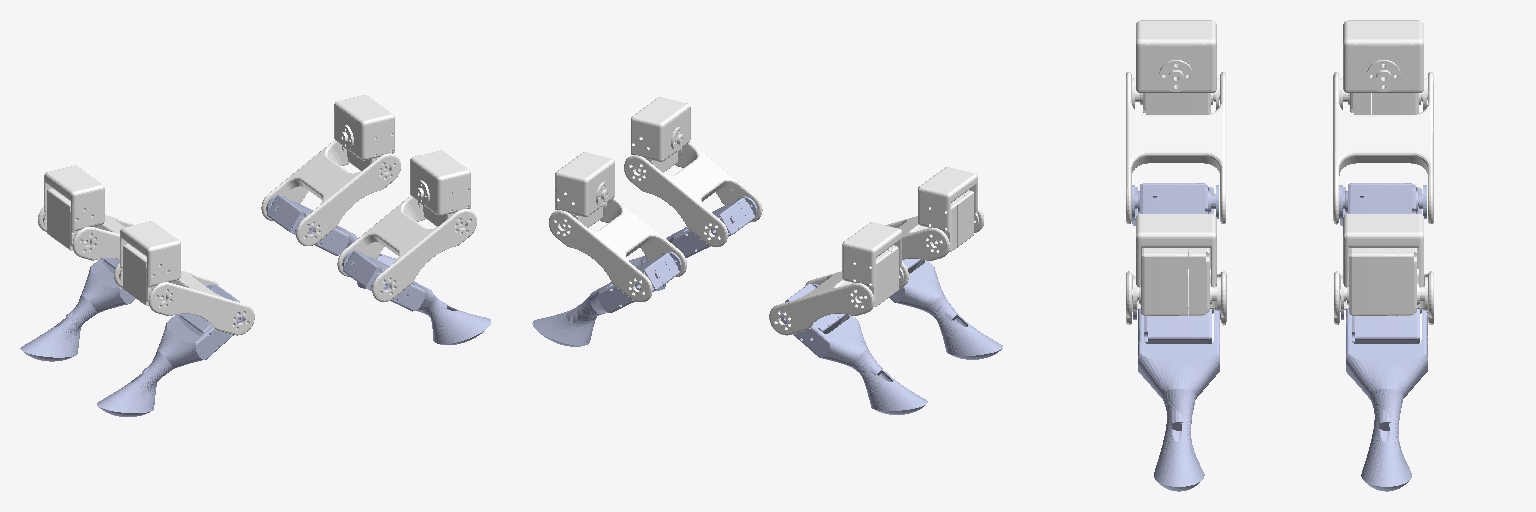
robot.urdf — amph:
<?xml version="1.0" encoding="utf-8"?>
<!-- This URDF was automatically created by SolidWorks to URDF Exporter! Originally created by Stephen Brawner (brawner@gmail.com) 
     Commit Version: 1.6.0-4-g7f85cfe  Build Version: 1.6.7995.38578
     For more information, please see http://wiki.ros.org/sw_urdf_exporter -->
<robot
  name="amph">
  <link
    name="base_link">
    <inertial>
      <origin
        xyz="0.038064 -0.003999 0.017013"
        rpy="0 0 0" />
      <mass
        value="0.3201" />
      <inertia
        ixx="0.000771"
        ixy="0"
        ixz="0"
        iyy="0.001846"
        iyz="0"
        izz="0.0023046" />
    </inertial>
    <visual>
      <origin
        xyz="0 0 0"
        rpy="0 0 0" />
      <geometry>
        <mesh
          filename="package://amph/meshes/base_link.STL" />
      </geometry>
      <material
        name="">
        <color
          rgba="1 1 1 0.25" />
      </material>
    </visual>
    <collision>
      <origin
        xyz="0 0 0"
        rpy="0 0 0" />
      <geometry>
        <mesh
          filename="package://amph/meshes/base_link.STL" />
      </geometry>
    </collision>
  </link>
  <link
    name="Front_Left_Side_link">
    <inertial>
      <origin
        xyz="0.0184232919697395 0.00102036842326376 -0.00186242376711977"
        rpy="0 0 0" />
      <mass
        value="0.0299000" />
      <inertia
        ixx="0.0000152"
        ixy="-0.0000001"
        ixz="0.0000008"
        iyy="0.0000115"
        iyz="0.0000003"
        izz="0.0000098" />
    </inertial>
    <visual>
      <origin
        xyz="0 0 0"
        rpy="0 0 0" />
      <geometry>
        <mesh
          filename="package://amph/meshes/Front_Left_Side_link.STL" />
      </geometry>
      <material
        name="">
        <color
          rgba="1 1 1 1" />
      </material>
    </visual>
    <collision>
      <origin
        xyz="0 0 0"
        rpy="0 0 0" />
      <geometry>
        <mesh
          filename="package://amph/meshes/Front_Left_Side_link.STL" />
      </geometry>
    </collision>
  </link>
  <joint
    name="Front_Left_Side_joint"
    type="revolute">
    <origin
      xyz="0.15477759334008 0.0570000000000263 0.00155612434018304"
      rpy="0 0 0" />
    <parent
      link="base_link" />
    <child
      link="Front_Left_Side_link" />
    <axis
      xyz="-1 0 0" />
    <limit
      lower="-0.52"
      upper="2.36"
      effort="3.5"
      velocity="12" />
  </joint>
  <link
    name="Front_Left_Thigh_link">
    <inertial>
      <origin
        xyz="-0.026 0.035884 -0.014811"
        rpy="0 0 0" />
      <mass
        value="0.0208000" />
      <inertia
        ixx="0.0000123"
        ixy="0"
        ixz="-0.0000032"
        iyy="0.0000096"
        iyz="0"
        izz="0.0000168" />
    </inertial>
    <visual>
      <origin
        xyz="0 0 0"
        rpy="0 0 0" />
      <geometry>
        <mesh
          filename="package://amph/meshes/Front_Left_Thigh_link.STL" />
      </geometry>
      <material
        name="">
        <color
          rgba="1 1 1 1" />
      </material>
    </visual>
    <collision>
      <origin
        xyz="0 0 0"
        rpy="0 0 0" />
      <geometry>
        <mesh
          filename="package://amph/meshes/Front_Left_Thigh_link.STL" />
      </geometry>
    </collision>
  </link>
  <joint
    name="Front_Left_Thigh_joint"
    type="revolute">
    <origin
      xyz="0.0220000079843493 0.0260999999999999 -0.0219999999987494"
      rpy="0 0 1.5707963267949" />
    <parent
      link="Front_Left_Side_link" />
    <child
      link="Front_Left_Thigh_link" />
    <axis
      xyz="-0.999999999999836 0 0" />
    <limit
      lower="-1.31"
      upper="1.31"
      effort="3.5"
      velocity="12" />
  </joint>
  <link
    name="Front_Left_Calf_link">
    <inertial>
      <origin
        xyz="-0.0255040747565971 0.00205150277579838 -0.0486018692135873"
        rpy="0 0 0" />
      <mass
        value="0.0451000" />
      <inertia
        ixx="0.0000409"
        ixy="-0.0000014"
        ixz="0.0000394"
        iyy="0.0000854"
        iyz="0.0000011"
        izz="0.0000572" />
    </inertial>
    <visual>
      <origin
        xyz="0 0 0"
        rpy="0 0 0" />
      <geometry>
        <mesh
          filename="package://amph/meshes/Front_Left_Calf_link.STL" />
      </geometry>
      <material
        name="">
        <color
          rgba="0.792156862745098 0.819607843137255 0.933333333333333 1" />
      </material>
    </visual>
    <collision>
      <origin
        xyz="0 0 0"
        rpy="0 0 0" />
      <geometry>
        <mesh
          filename="package://amph/meshes/Front_Left_Calf_link.STL" />
      </geometry>
    </collision>
  </link>
  <joint
    name="Front_Left_Calf_joint"
    type="revolute">
    <origin
      xyz="0 0.0702306452880413 -0.0383100047301657"
      rpy="-0.958131422681285 0 0" />
    <parent
      link="Front_Left_Thigh_link" />
    <child
      link="Front_Left_Calf_link" />
    <axis
      xyz="0.999999999999836 0 0" />
    <limit
      lower="-2.36"
      upper="0.79"
      effort="3.5"
      velocity="12" />
  </joint>
  <link
    name="Front_Left_Foot_link">
    <inertial>
      <origin
        xyz="-0.0085301 -0.00027102 0.010929"
        rpy="0 0 0" />
      <mass
        value="0.0183000" />
      <inertia
        ixx="0.0000025"
        ixy="0"
        ixz="0.0000014"
        iyy="0.0000053"
        iyz="0"
        izz="0.0000041" />
    </inertial>
    <visual>
      <origin
        xyz="0 0 0"
        rpy="0 0 0" />
      <geometry>
        <mesh
          filename="package://amph/meshes/Front_Left_Foot_link.STL" />
      </geometry>
      <material
        name="">
        <color
          rgba="0.79216 0.81961 0.93333 1" />
      </material>
    </visual>
    <collision>
      <origin
        xyz="0 0 0"
        rpy="0 0 0" />
      <geometry>
        <mesh
          filename="package://amph/meshes/Front_Left_Foot_link.STL" />
      </geometry>
    </collision>
  </link>
  <joint
    name="A_Front_Left_Foot"
    type="fixed">
    <origin
      xyz="-0.0244001461107092 0.0112213171848542 -0.115181778306931"
      rpy="0 0.958131422681285 -1.5707963267949" />
    <parent
      link="Front_Left_Calf_link" />
    <child
      link="Front_Left_Foot_link" />
    <axis
      xyz="0 0 0" />
  </joint>
  <link
    name="Front_Right_Side_link">
    <inertial>
      <origin
        xyz="0.0184232919684947 0.00102036842326379 -0.00186242376837317"
        rpy="0 0 0" />
      <mass
        value="0.0299000" />
      <inertia
        ixx="0.0000152"
        ixy="-0.0000001"
        ixz="0.0000008"
        iyy="0.0000115"
        iyz="0.0000003"
        izz="0.0000098" />
    </inertial>
    <visual>
      <origin
        xyz="0 0 0"
        rpy="0 0 0" />
      <geometry>
        <mesh
          filename="package://amph/meshes/Front_Right_Side_link.STL" />
      </geometry>
      <material
        name="">
        <color
          rgba="1 1 1 1" />
      </material>
    </visual>
    <collision>
      <origin
        xyz="0 0 0"
        rpy="0 0 0" />
      <geometry>
        <mesh
          filename="package://amph/meshes/Front_Right_Side_link.STL" />
      </geometry>
    </collision>
  </link>
  <joint
    name="Front_Right_Side_joint"
    type="revolute">
    <origin
      xyz="0.154777636868688 -0.0649999999999737 0.00155612434143641"
      rpy="0 0 0" />
    <parent
      link="base_link" />
    <child
      link="Front_Right_Side_link" />
    <axis
      xyz="-1 0 0" />
    <limit
      lower="-2.36"
      upper="0.52"
      effort="3.5"
      velocity="12" />
  </joint>
  <link
    name="Front_Right_Thigh_link">
    <inertial>
      <origin
        xyz="-0.026 0.035884 -0.014811"
        rpy="0 0 0" />
      <mass
        value="0.0208000" />
      <inertia
        ixx="0.0000123"
        ixy="0"
        ixz="-0.0000032"
        iyy="0.0000096"
        iyz="0"
        izz="0.0000168" />
    </inertial>
    <visual>
      <origin
        xyz="0 0 0"
        rpy="0 0 0" />
      <geometry>
        <mesh
          filename="package://amph/meshes/Front_Right_Thigh_link.STL" />
      </geometry>
      <material
        name="">
        <color
          rgba="1 1 1 1" />
      </material>
    </visual>
    <collision>
      <origin
        xyz="0 0 0"
        rpy="0 0 0" />
      <geometry>
        <mesh
          filename="package://amph/meshes/Front_Right_Thigh_link.STL" />
      </geometry>
    </collision>
  </link>
  <joint
    name="Front_Right_Thigh_joint"
    type="revolute">
    <origin
      xyz="0.0220000079831044 0.0260999999999999 -0.0220000000000028"
      rpy="0 0 1.5707963267949" />
    <parent
      link="Front_Right_Side_link" />
    <child
      link="Front_Right_Thigh_link" />
    <axis
      xyz="-0.999999999999836 0 0" />
    <limit
      lower="-1.31"
      upper="1.31"
      effort="3.5"
      velocity="12" />
  </joint>
  <link
    name="Front_Right_Calf_link">
    <inertial>
      <origin
        xyz="-0.025504 0.0020515 -0.048602"
        rpy="0 0 0" />
      <mass
        value="0.0451000" />
      <inertia
        ixx="0.0000409"
        ixy="-0.0000014"
        ixz="0.0000394"
        iyy="0.0000854"
        iyz="0.0000011"
        izz="0.0000572" />
    </inertial>
    <visual>
      <origin
        xyz="0 0 0"
        rpy="0 0 0" />
      <geometry>
        <mesh
          filename="package://amph/meshes/Front_Right_Calf_link.STL" />
      </geometry>
      <material
        name="">
        <color
          rgba="0.79216 0.81961 0.93333 1" />
      </material>
    </visual>
    <collision>
      <origin
        xyz="0 0 0"
        rpy="0 0 0" />
      <geometry>
        <mesh
          filename="package://amph/meshes/Front_Right_Calf_link.STL" />
      </geometry>
    </collision>
  </link>
  <joint
    name="Front_Right_Calf_joint"
    type="revolute">
    <origin
      xyz="0 0.0702306452593267 -0.0383099809708292"
      rpy="-0.958131422681286 0 0" />
    <parent
      link="Front_Right_Thigh_link" />
    <child
      link="Front_Right_Calf_link" />
    <axis
      xyz="0.999999999999836 0 0" />
    <limit
      lower="-2.36"
      upper="0.79"
      effort="3.5"
      velocity="12" />
  </joint>
  <link
    name="Front_Right_Foot_link">
    <inertial>
      <origin
        xyz="-0.0085301 -0.00027102 0.010929"
        rpy="0 0 0" />
      <mass
        value="0.0183000" />
      <inertia
        ixx="0.0000025"
        ixy="0"
        ixz="0.0000014"
        iyy="0.0000053"
        iyz="0"
        izz="0.0000041" />
    </inertial>
    <visual>
      <origin
        xyz="0 0 0"
        rpy="0 0 0" />
      <geometry>
        <mesh
          filename="package://amph/meshes/Front_Right_Foot_link.STL" />
      </geometry>
      <material
        name="">
        <color
          rgba="0.79216 0.81961 0.93333 1" />
      </material>
    </visual>
    <collision>
      <origin
        xyz="0 0 0"
        rpy="0 0 0" />
      <geometry>
        <mesh
          filename="package://amph/meshes/Front_Right_Foot_link.STL" />
      </geometry>
    </collision>
  </link>
  <joint
    name="A_Front_Right_Foot"
    type="fixed">
    <origin
      xyz="-0.0244001461107092 0.0112213171848544 -0.115181778306931"
      rpy="0 0.958131422681286 -1.5707963267949" />
    <parent
      link="Front_Right_Calf_link" />
    <child
      link="Front_Right_Foot_link" />
    <axis
      xyz="0 0 0" />
  </joint>
  <link
    name="Hind_Left_Side_link">
    <inertial>
      <origin
        xyz="0.0184232919638169 0.00102036842319508 -0.00186242363500561"
        rpy="0 0 0" />
      <mass
        value="0.0299000" />
      <inertia
        ixx="0.0000152"
        ixy="-0.0000001"
        ixz="-0.0000008"
        iyy="0.0000115"
        iyz="-0.0000003"
        izz="0.0000098" />
    </inertial>
    <visual>
      <origin
        xyz="0 0 0"
        rpy="0 0 0" />
      <geometry>
        <mesh
          filename="package://amph/meshes/Hind_Left_Side_link.STL" />
      </geometry>
      <material
        name="">
        <color
          rgba="1 1 1 1" />
      </material>
    </visual>
    <collision>
      <origin
        xyz="0 0 0"
        rpy="0 0 0" />
      <geometry>
        <mesh
          filename="package://amph/meshes/Hind_Left_Side_link.STL" />
      </geometry>
    </collision>
  </link>
  <joint
    name="Hind_Left_Side_joint"
    type="revolute">
    <origin
      xyz="-0.078642510574228 0.0570000000000255 0.00155612434145495"
      rpy="0 0 3.14159265358979" />
    <parent
      link="base_link" />
    <child
      link="Hind_Left_Side_link" />
    <axis
      xyz="-1 0 0" />
    <limit
      lower="-0.52"
      upper="2.36"
      effort="3.5"
      velocity="12" />
  </joint>
  <link
    name="Hind_Left_Thigh_link">
    <inertial>
      <origin
        xyz="-0.026 0.036316 -0.013716"
        rpy="0 0 0" />
      <mass
        value="0.0208000" />
      <inertia
        ixx="0.0000121"
        ixy="0"
        ixz="0.0000031"
        iyy=" 0.0000096"
        iyz="0"
        izz="0.0000170" />
    </inertial>
    <visual>
      <origin
        xyz="0 0 0"
        rpy="0 0 0" />
      <geometry>
        <mesh
          filename="package://amph/meshes/Hind_Left_Thigh_link.STL" />
      </geometry>
      <material
        name="">
        <color
          rgba="1 1 1 1" />
      </material>
    </visual>
    <collision>
      <origin
        xyz="0 0 0"
        rpy="0 0 0" />
      <geometry>
        <mesh
          filename="package://amph/meshes/Hind_Left_Thigh_link.STL" />
      </geometry>
    </collision>
  </link>
  <joint
    name="Hind_Left_Thigh_joint"
    type="revolute">
    <origin
      xyz="0.0220000153753706 0.0261000096574333 -0.0220000073922274"
      rpy="0 0 1.5707963267949" />
    <parent
      link="Hind_Left_Side_link" />
    <child
      link="Hind_Left_Thigh_link" />
    <axis
      xyz="-1 0 0" />
    <limit
      lower="-1.31"
      upper="1.31"
      effort="3.5"
      velocity="12" />
  </joint>
  <link
    name="Hind_Left_Calf_link">
    <inertial>
      <origin
        xyz="-0.025504 0.0020515 -0.048602"
        rpy="0 0 0" />
      <mass
        value=" 0.0451000" />
      <inertia
        ixx="0.0000362"
        ixy="-0.0000015"
        ixz="-0.0000381"
        iyy="0.0000854"
        iyz="-0.0000010"
        izz="0.0000620" />
    </inertial>
    <visual>
      <origin
        xyz="0 0 0"
        rpy="0 0 0" />
      <geometry>
        <mesh
          filename="package://amph/meshes/Hind_Left_Calf_link.STL" />
      </geometry>
      <material
        name="">
        <color
          rgba="0.79216 0.81961 0.93333 1" />
      </material>
    </visual>
    <collision>
      <origin
        xyz="0 0 0"
        rpy="0 0 0" />
      <geometry>
        <mesh
          filename="package://amph/meshes/Hind_Left_Calf_link.STL" />
      </geometry>
    </collision>
  </link>
  <joint
    name="Hind_Left_Calf_joint"
    type="revolute">
    <origin
      xyz="0 0.0713593621686832 -0.0361640975470369"
      rpy="-1.01982031722611 0 0" />
    <parent
      link="Hind_Left_Thigh_link" />
    <child
      link="Hind_Left_Calf_link" />
    <axis
      xyz="1 0 0" />
    <limit
      lower="-2.36"
      upper="0.79"
      effort="3.5"
      velocity="12" />
  </joint>
  <link
    name="Hind_Left_Foot_link">
    <inertial>
      <origin
        xyz="-0.0091875 -0.00027094 0.010382"
        rpy="0 0 0" />
      <mass
        value="0.0183000" />
      <inertia
        ixx="0.0000023"
        ixy="0"
        ixz="-0.0000013"
        iyy="0.0000053"
        iyz="0"
        izz=" 0.0000043" />
    </inertial>
    <visual>
      <origin
        xyz="0 0 0"
        rpy="0 0 0" />
      <geometry>
        <mesh
          filename="package://amph/meshes/Hind_Left_Foot_link.STL" />
      </geometry>
      <material
        name="">
        <color
          rgba="0.79216 0.81961 0.93333 1" />
      </material>
    </visual>
    <collision>
      <origin
        xyz="0 0 0"
        rpy="0 0 0" />
      <geometry>
        <mesh
          filename="package://amph/meshes/Hind_Left_Foot_link.STL" />
      </geometry>
    </collision>
  </link>
  <joint
    name="A_Hind_Left_Foot"
    type="fixed">
    <origin
      xyz="-0.0244001461112225 0.0112213171765679 -0.115181778272229"
      rpy="0 1.01982031722611 -1.5707963267949" />
    <parent
      link="Hind_Left_Calf_link" />
    <child
      link="Hind_Left_Foot_link" />
    <axis
      xyz="0 0 0" />
  </joint>
  <link
    name="Hind_Right_Side_link">
    <inertial>
      <origin
        xyz="0.0184232920396631 0.00102036842967271 -0.00186242371085152"
        rpy="0 0 0" />
      <mass
        value="0.0299000" />
      <inertia
        ixx="0.0000152"
        ixy="-0.0000001"
        ixz="-0.0000008"
        iyy="0.0000115"
        iyz="-0.0000003"
        izz="0.0000098" />
    </inertial>
    <visual>
      <origin
        xyz="0 0 0"
        rpy="0 0 0" />
      <geometry>
        <mesh
          filename="package://amph/meshes/Hind_Right_Side_link.STL" />
      </geometry>
      <material
        name="">
        <color
          rgba="1 1 1 1" />
      </material>
    </visual>
    <collision>
      <origin
        xyz="0 0 0"
        rpy="0 0 0" />
      <geometry>
        <mesh
          filename="package://amph/meshes/Hind_Right_Side_link.STL" />
      </geometry>
    </collision>
  </link>
  <joint
    name="Hind_Right_Side_joint"
    type="revolute">
    <origin
      xyz="-0.078642510574228 -0.0649999999999738 0.00155612434143241"
      rpy="0 0 3.14159265358979" />
    <parent
      link="base_link" />
    <child
      link="Hind_Right_Side_link" />
    <axis
      xyz="-1 0 0" />
    <limit
      lower="-2.36"
      upper="0.52"
      effort="3.5"
      velocity="12" />
  </joint>
  <link
    name="Hind_Right_Thigh_link">
    <inertial>
      <origin
        xyz="-0.0260001136856868 0.0363162978177904 -0.0137164925055826"
        rpy="0 0 0" />
      <mass
        value="0.0208000" />
      <inertia
        ixx="0.0000121"
        ixy="0"
        ixz="0.0000031"
        iyy=" 0.0000096"
        iyz="0"
        izz="0.0000170" />
    </inertial>
    <visual>
      <origin
        xyz="0 0 0"
        rpy="0 0 0" />
      <geometry>
        <mesh
          filename="package://amph/meshes/Hind_Right_Thigh_link.STL" />
      </geometry>
      <material
        name="">
        <color
          rgba="1 1 1 1" />
      </material>
    </visual>
    <collision>
      <origin
        xyz="0 0 0"
        rpy="0 0 0" />
      <geometry>
        <mesh
          filename="package://amph/meshes/Hind_Right_Thigh_link.STL" />
      </geometry>
    </collision>
  </link>
  <joint
    name="Hind_Right_Thigh_joint"
    type="revolute">
    <origin
      xyz="0.0220000079925918 0.0261000000008643 -0.0220000000094382"
      rpy="0 0 1.5707963267949" />
    <parent
      link="Hind_Right_Side_link" />
    <child
      link="Hind_Right_Thigh_link" />
    <axis
      xyz="-1 0 0" />
    <limit
      lower="-1.31"
      upper="1.31"
      effort="3.5"
      velocity="12" />
  </joint>
  <link
    name="Hind_Right_Calf_link">
    <inertial>
      <origin
        xyz="-0.0255040545670905 0.002051538644728 -0.0486017259773516"
        rpy="0 0 0" />
      <mass
        value=" 0.0451000" />
      <inertia
        ixx="0.0000362"
        ixy="-0.0000015"
        ixz="-0.0000381"
        iyy="0.0000854"
        iyz="-0.0000010"
        izz="0.0000620" />
    </inertial>
    <visual>
      <origin
        xyz="0 0 0"
        rpy="0 0 0" />
      <geometry>
        <mesh
          filename="package://amph/meshes/Hind_Right_Calf_link.STL" />
      </geometry>
      <material
        name="">
        <color
          rgba="0.792156862745098 0.819607843137255 0.933333333333333 1" />
      </material>
    </visual>
    <collision>
      <origin
        xyz="0 0 0"
        rpy="0 0 0" />
      <geometry>
        <mesh
          filename="package://amph/meshes/Hind_Right_Calf_link.STL" />
      </geometry>
    </collision>
  </link>
  <joint
    name="Hind_Right_Calf_joint"
    type="revolute">
    <origin
      xyz="0 0.0713593547822719 -0.0361641049332484"
      rpy="-1.01982031722609 0 0" />
    <parent
      link="Hind_Right_Thigh_link" />
    <child
      link="Hind_Right_Calf_link" />
    <axis
      xyz="1 0 0" />
    <limit
      lower="-2.36"
      upper="0.79"
      effort="3.5"
      velocity="12" />
  </joint>
  <link
    name="Hind_Right_Foot_link">
    <inertial>
      <origin
        xyz="-0.00918745763021567 -0.000270937029825447 0.0103819999359498"
        rpy="0 0 0" />
      <mass
        value="0.0183000" />
      <inertia
        ixx="0.0000023"
        ixy="0"
        ixz="-0.0000013"
        iyy="0.0000053"
        iyz="0"
        izz=" 0.0000043" />
    </inertial>
    <visual>
      <origin
        xyz="0 0 0"
        rpy="0 0 0" />
      <geometry>
        <mesh
          filename="package://amph/meshes/Hind_Right_Foot_link.STL" />
      </geometry>
      <material
        name="">
        <color
          rgba="0.792156862745098 0.819607843137255 0.933333333333333 1" />
      </material>
    </visual>
    <collision>
      <origin
        xyz="0 0 0"
        rpy="0 0 0" />
      <geometry>
        <mesh
          filename="package://amph/meshes/Hind_Right_Foot_link.STL" />
      </geometry>
    </collision>
  </link>
  <joint
    name="A_Hind_Right_Foot"
    type="fixed">
    <origin
      xyz="-0.0244001461112576 0.0112213171765707 -0.115181778272251"
      rpy="0 1.01982031722609 -1.57079632679491" />
    <parent
      link="Hind_Right_Calf_link" />
    <child
      link="Hind_Right_Foot_link" />
    <axis
      xyz="0 0 0" />
  </joint>
</robot>

--- What the picture shows (computed from the rendered views, not written in the file) ---
The picture shows the robot from 3 angles, left to right: view 1: azimuth 30°, elevation 25°; view 2: azimuth 150°, elevation 25°; view 3: azimuth 270°, elevation 25°; orthographic projection.
Robot: amph — 17 links, 16 joints (12 revolute, 4 fixed); root link base_link; default pose: all joints at 0.
Visible links, largest first — view 1: Front_Right_Thigh_link, Front_Left_Thigh_link, Hind_Right_Calf_link, Hind_Left_Side_link, Hind_Right_Side_link, Hind_Right_Thigh_link, Front_Right_Calf_link, Front_Left_Side_link, Front_Right_Side_link, Hind_Left_Calf_link, Front_Left_Calf_link, Hind_Left_Thigh_link; view 2: Front_Right_Thigh_link, Front_Left_Thigh_link, Hind_Left_Calf_link, Hind_Right_Side_link, Hind_Left_Side_link, Hind_Left_Thigh_link, Front_Left_Side_link, Front_Right_Side_link, Front_Left_Calf_link, Hind_Right_Calf_link, Front_Right_Calf_link, Hind_Right_Thigh_link (+1 smaller); view 3: Front_Right_Calf_link, Front_Left_Calf_link, Front_Right_Side_link, Front_Left_Side_link, Hind_Left_Side_link, Hind_Right_Side_link, Hind_Left_Thigh_link, Hind_Right_Thigh_link, Hind_Left_Calf_link, Hind_Right_Calf_link, Front_Right_Thigh_link, Front_Left_Thigh_link.
Link boxes in pixels (x1,y1,x2,y2): Front_Right_Thigh_link: [337, 196, 476, 301]; Front_Left_Thigh_link: [261, 140, 400, 245]; Hind_Right_Calf_link: [97, 284, 242, 416]; Hind_Left_Side_link: [43, 165, 104, 250]; Hind_Right_Side_link: [119, 221, 180, 305]; Hind_Right_Thigh_link: [114, 262, 254, 335]; Front_Right_Calf_link: [342, 250, 490, 344]; Front_Left_Side_link: [334, 95, 394, 174]; Front_Right_Side_link: [410, 150, 470, 232]; Hind_Left_Calf_link: [20, 258, 135, 361]; Front_Left_Calf_link: [266, 195, 396, 288]; Hind_Left_Thigh_link: [38, 207, 136, 260]; Front_Right_Thigh_link: [624, 142, 762, 246]; Front_Left_Thigh_link: [549, 197, 686, 301]; Hind_Left_Calf_link: [780, 283, 926, 414]; Hind_Right_Side_link: [918, 167, 978, 251]; Hind_Left_Side_link: [842, 222, 903, 306]; Hind_Left_Thigh_link: [769, 262, 908, 335]; Front_Left_Side_link: [555, 152, 614, 229]; Front_Right_Side_link: [631, 97, 690, 178]; Front_Left_Calf_link: [532, 252, 681, 346]; Hind_Right_Calf_link: [889, 259, 1002, 359]; Front_Right_Calf_link: [629, 196, 756, 290]; Hind_Right_Thigh_link: [886, 208, 983, 260]; Front_Right_Calf_link: [1133, 309, 1220, 490]; Front_Left_Calf_link: [1341, 309, 1427, 491]; Front_Right_Side_link: [1132, 214, 1220, 315]; Front_Left_Side_link: [1340, 214, 1427, 315]; Hind_Left_Side_link: [1339, 20, 1427, 114]; Hind_Right_Side_link: [1132, 20, 1219, 114]; Hind_Left_Thigh_link: [1333, 72, 1433, 224]; Hind_Right_Thigh_link: [1126, 72, 1225, 223]; Hind_Left_Calf_link: [1339, 183, 1426, 225]; Hind_Right_Calf_link: [1132, 183, 1218, 225]; Front_Right_Thigh_link: [1126, 271, 1226, 325]; Front_Left_Thigh_link: [1334, 271, 1433, 324].
Bounding box of the posed robot: 0.365 × 0.1812 × 0.1623 m (x, y, z).
16 mesh visuals loaded from 17 distinct referenced files (16 binary STL); not drawn: 1 (reference not matched to a file when rendering).
